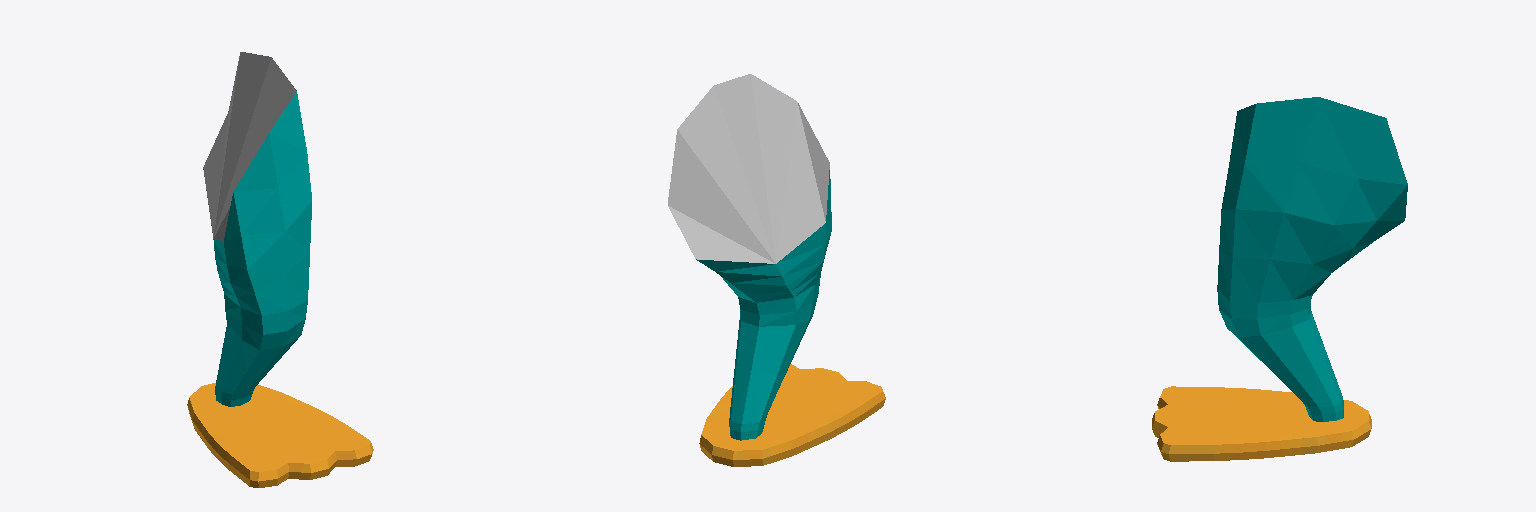
The picture shows the model from 3 angles: view 1: azimuth 30°, elevation 25°; view 2: azimuth 150°, elevation 25°; view 3: azimuth 270°, elevation 25°; orthographic projection.
Parts seen in each view (by area): view 1: piernaIzquierda_Mesh_0119.rip_noesis_meshnode_0000_Mesh_0119.rip; view 2: piernaIzquierda_Mesh_0119.rip_noesis_meshnode_0000_Mesh_0119.rip; view 3: piernaIzquierda_Mesh_0119.rip_noesis_meshnode_0000_Mesh_0119.rip.
Boxes of the visible parts, box(x1,y1,x2,y2) form: piernaIzquierda_Mesh_0119.rip_noesis_meshnode_0000_Mesh_0119.rip: box(187, 52, 373, 487); piernaIzquierda_Mesh_0119.rip_noesis_meshnode_0000_Mesh_0119.rip: box(668, 74, 885, 466); piernaIzquierda_Mesh_0119.rip_noesis_meshnode_0000_Mesh_0119.rip: box(1152, 97, 1407, 461).
Size of the model in its own units: 0.154 by 0.417 by 0.2746.
11 materials, 1 textured.